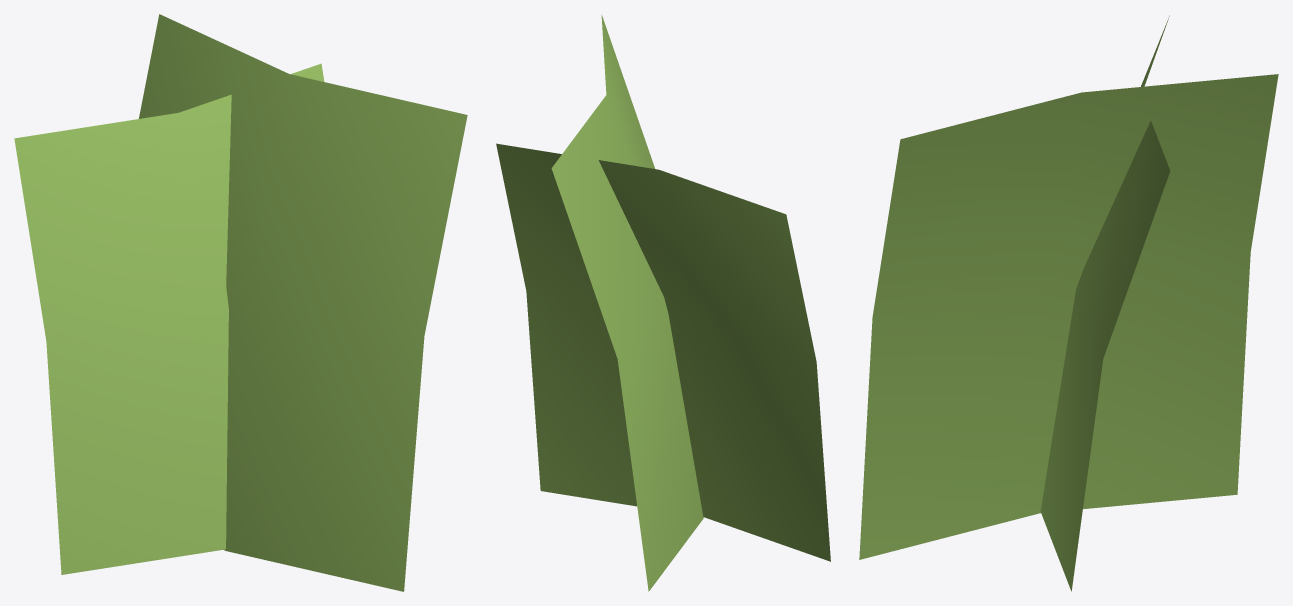
Rendered from GrassPlanes_a_TwoS_03.fbx.
3 renders of one model, left to right at view 1: azimuth 30°, elevation 25°; view 2: azimuth 150°, elevation 25°; view 3: azimuth 270°, elevation 25°, orthographic. The views are drawn at different scales.
Visible parts, largest first — view 1: GrassPlanes_a_TwoS_03; view 2: GrassPlanes_a_TwoS_03; view 3: GrassPlanes_a_TwoS_03.
Boxes of the visible parts, <box> form: GrassPlanes_a_TwoS_03: <box>14,14,467,591</box>; GrassPlanes_a_TwoS_03: <box>496,15,830,591</box>; GrassPlanes_a_TwoS_03: <box>859,15,1278,591</box>.
Bounding box in the file's own units: 51.58 × 67.2 × 55.13.
